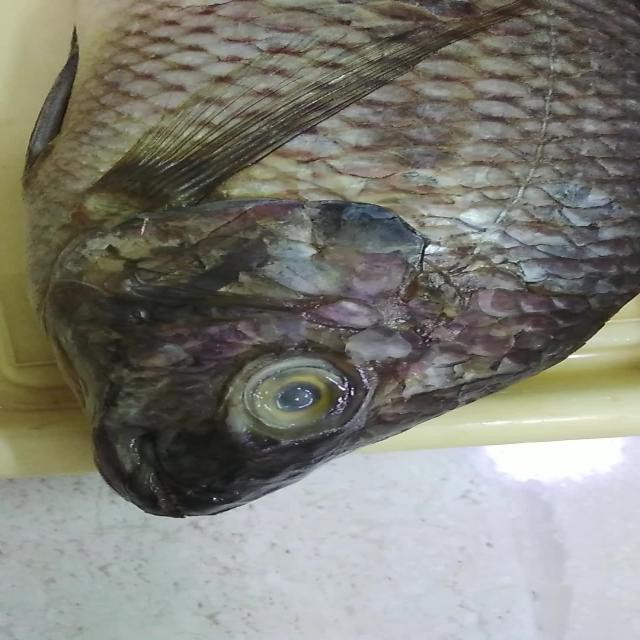Non-Fresh: (93, 8, 581, 348), (237, 350, 358, 441)
